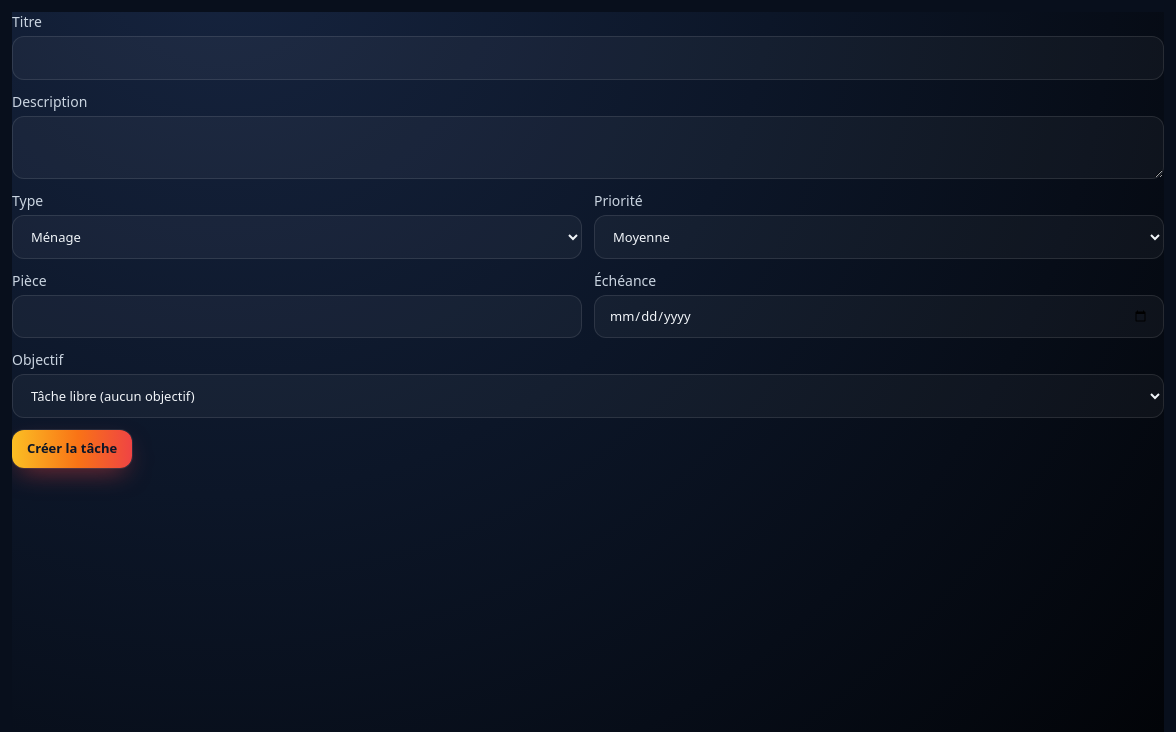
Scenario: TaskForm › refuse la soumission sans titre
Click the button "Créer la tâche".
click(72, 449)  # box [12,430,132,468]
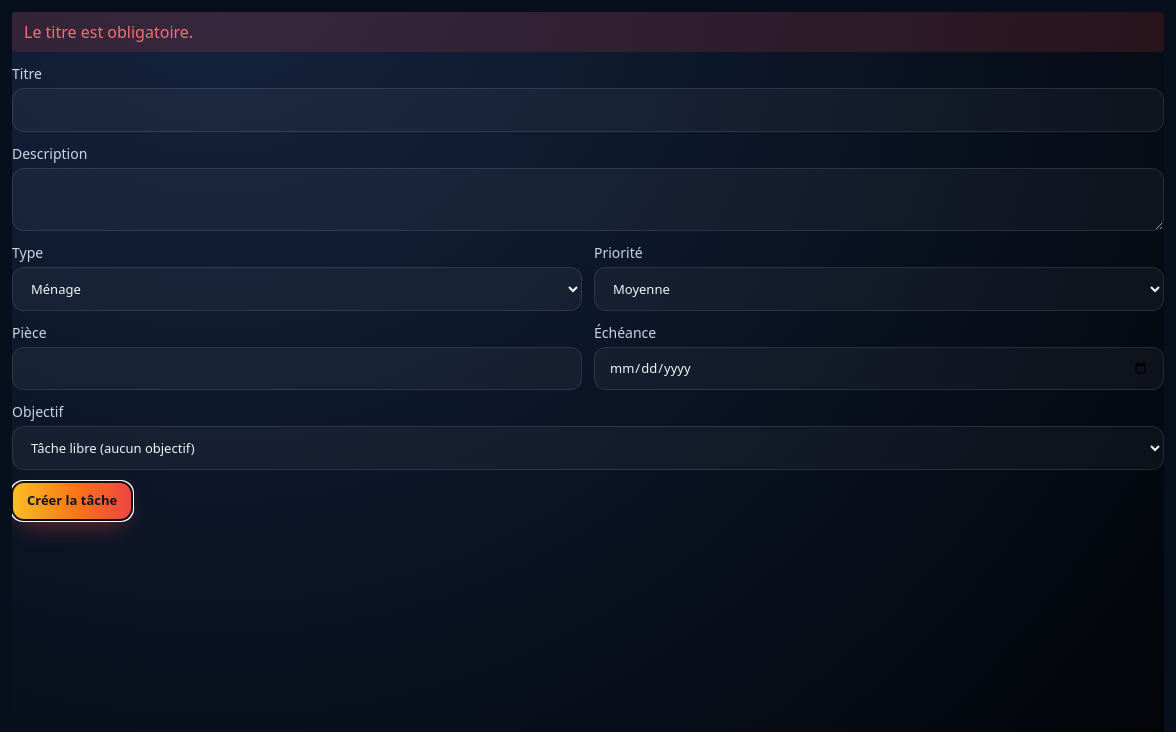
Now the message shows "titre", box [24,21,193,43]
